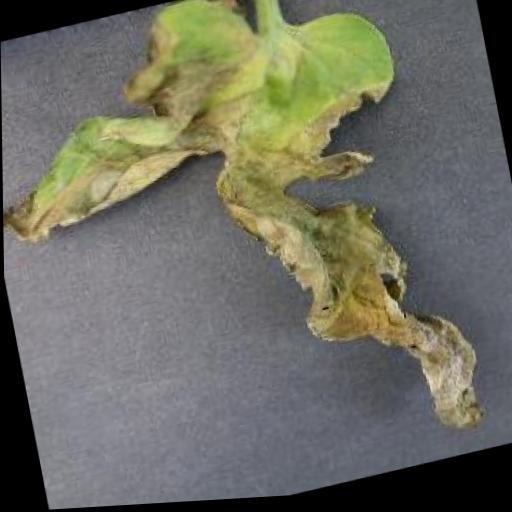Late Blight: (0, 0, 491, 512)
